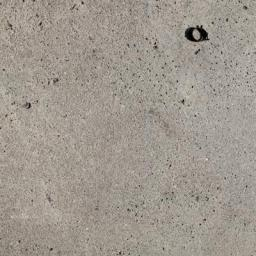FOD: (185, 22, 215, 47)
